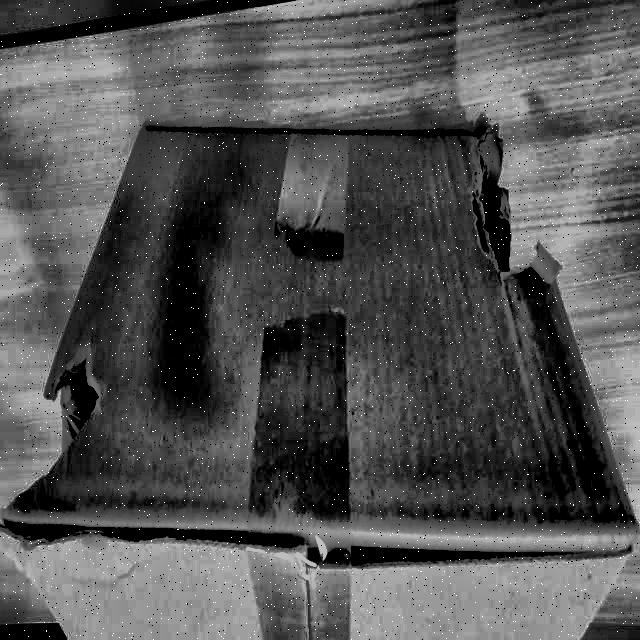box: (1, 110, 640, 640)
hole: (0, 360, 99, 532), (459, 127, 559, 285)
